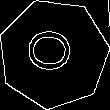O_E: (25, 29, 82, 78)
